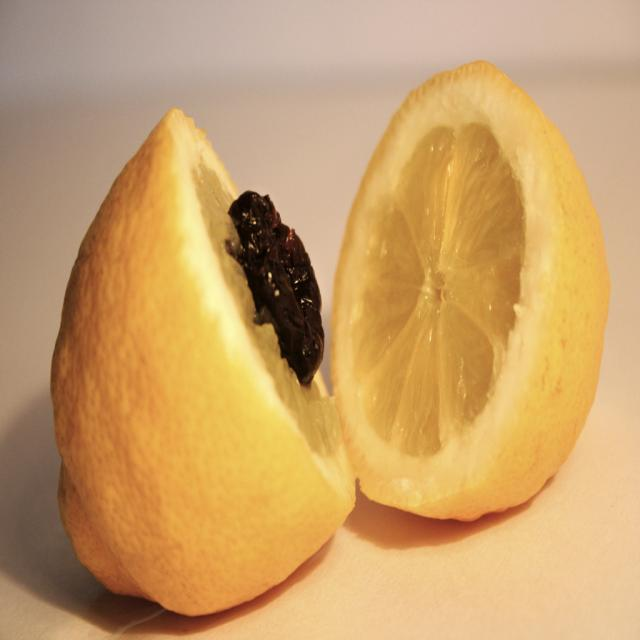Lemon: (47, 106, 357, 621), (330, 55, 613, 524)
